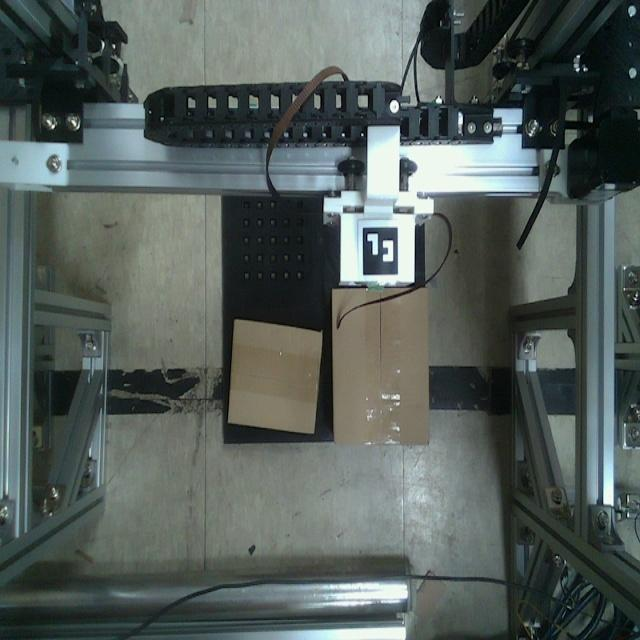box: (327, 284, 435, 450), (221, 314, 328, 440)
